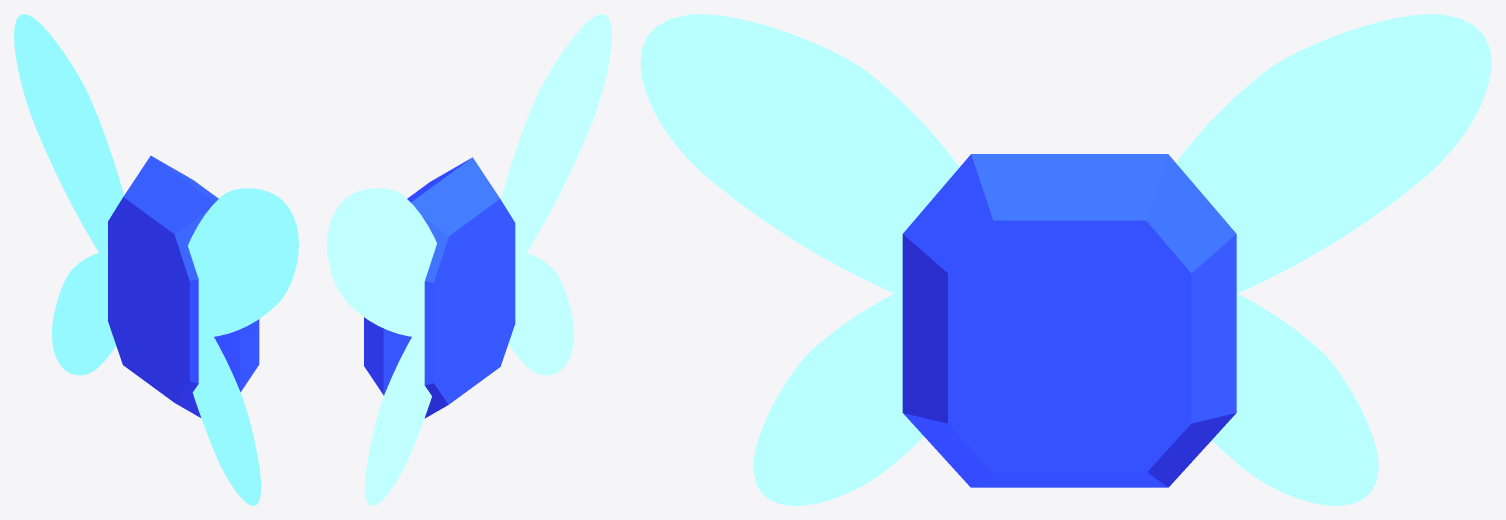
Rendered from power up.fbx.
The picture shows the model from 3 angles, left to right: view 1: azimuth 30°, elevation 25°; view 2: azimuth 150°, elevation 25°; view 3: azimuth 270°, elevation 25°; orthographic projection. The views are drawn at different scales.
Parts seen in each view (by area): view 1: ali, gemma; view 2: ali, gemma; view 3: ali, gemma.
Boxes of the visible parts, x1=… form: ali: x1=14, y1=14, x2=298, y2=505; gemma: x1=108, y1=156, x2=259, y2=417; ali: x1=327, y1=14, x2=611, y2=505; gemma: x1=364, y1=157, x2=515, y2=418; ali: x1=640, y1=14, x2=1491, y2=505; gemma: x1=902, y1=154, x2=1236, y2=487.
Size of the model in its own units: 72.16 by 325 by 510.
